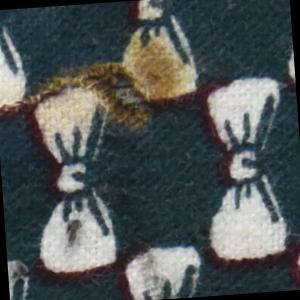Damage: (1, 54, 158, 146), (136, 250, 162, 300)
Oil Stain: (1, 3, 204, 164)
Stain: (58, 215, 92, 258)
